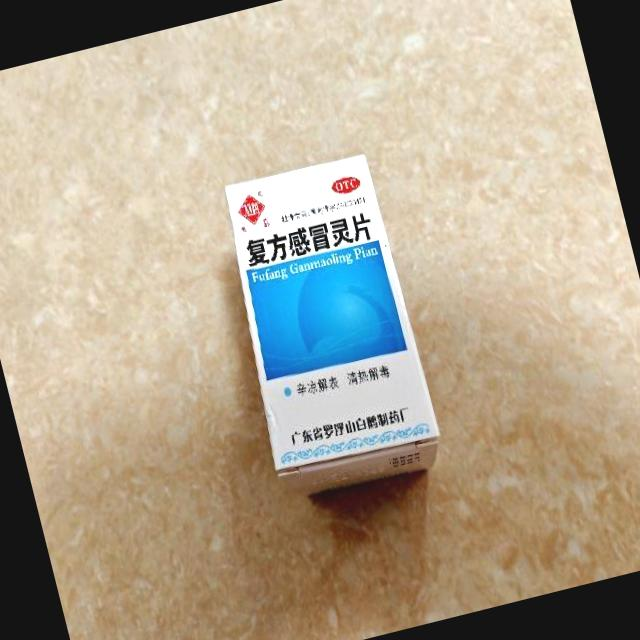box: (205, 149, 447, 505)
